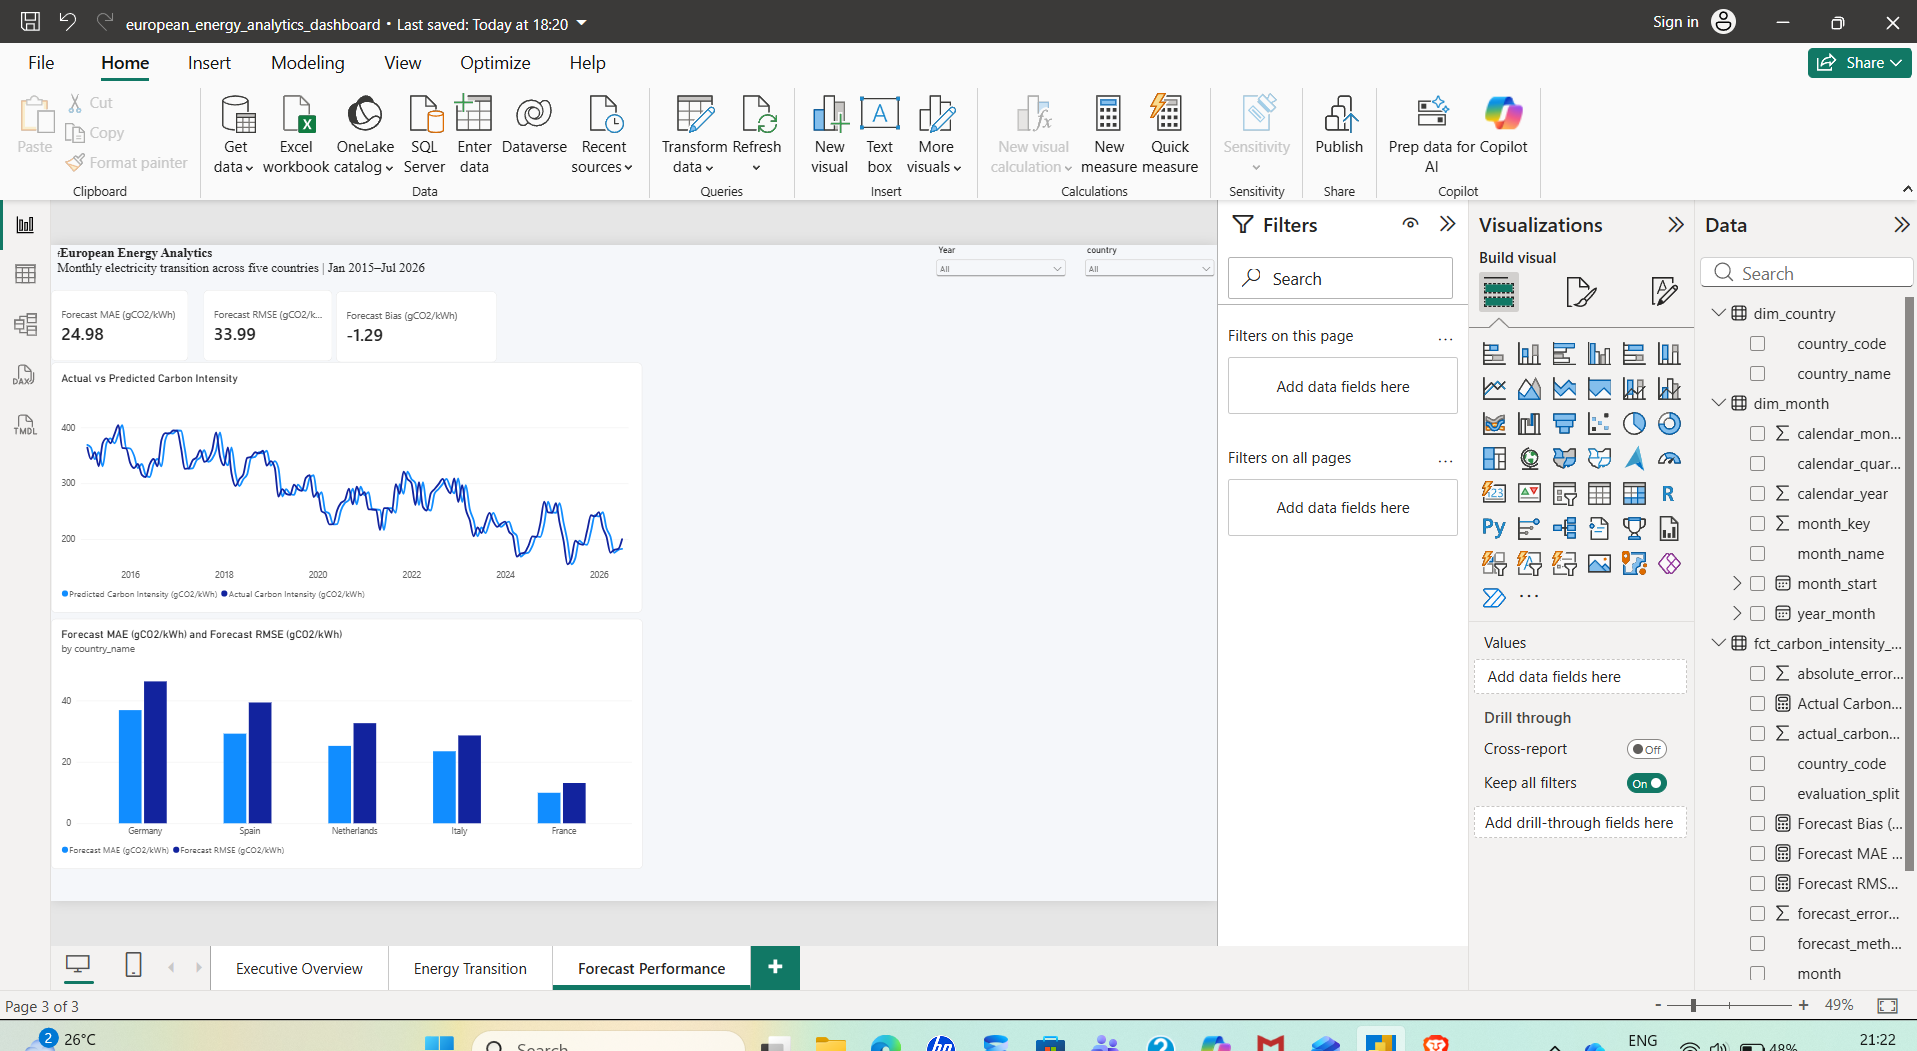

The page's visual inventory and layout, read from the dashboard file:
{"tool":"powerbi","page":{"name":"Forecast Performance","canvas":[1920,1080],"ordinal":2},"visuals":[{"type":"textbox","box":[10.3,0,1173.2,92.6],"z":0},{"type":"slicer","fields":{"Values":["dim_month.calendar_year"]},"box":[1453.2,0,222.3,74.1],"z":1000},{"type":"slicer","fields":{"Values":["dim_country.country_name"]},"box":[1697.7,0,222.3,74.1],"z":2000},{"type":"cardVisual","fields":{"Data":["fct_carbon_intensity_forecast.Forecast MAE (gCO2/kWh)"]},"box":[0,74.1,226.4,117.3],"z":3000},{"type":"cardVisual","fields":{"Data":["fct_carbon_intensity_forecast.Forecast RMSE (gCO2/kWh)"]},"box":[251.1,74.1,212,117.3],"z":4000},{"type":"cardVisual","fields":{"Data":["fct_carbon_intensity_forecast.Forecast Bias (gCO2/kWh)"]},"box":[469.3,76.2,265.5,117.3],"z":5000},{"type":"lineChart","title":"Actual vs Predicted Carbon Intensity","fields":{"Category":["dim_month.month_start"],"Y":["fct_carbon_intensity_forecast.Predicted Carbon Intensity (gCO2/kWh)","fct_carbon_intensity_forecast.Actual Carbon Intensity (gCO2/kWh)"]},"box":[0,193.5,973.6,411.7],"z":6000},{"type":"clusteredColumnChart","title":"Forecast Error by Country","fields":{"Category":["dim_country.country_name"],"Y":["fct_carbon_intensity_forecast.Forecast MAE (gCO2/kWh)","fct_carbon_intensity_forecast.Forecast RMSE (gCO2/kWh)"]},"box":[0,615,974,412],"z":7000}]}

Visuals, with their boxes on the page's 1920x1080 design canvas (x1, y1, x2, y2). These are canvas units, not pixel positions in the 1917x1051 screenshot, which may show the page scaled, cropped or inside an application window:
textbox: {"left": 10, "top": 0, "right": 1184, "bottom": 93}
slicer - dim_month.calendar_year: {"left": 1453, "top": 0, "right": 1676, "bottom": 74}
slicer - dim_country.country_name: {"left": 1698, "top": 0, "right": 1920, "bottom": 74}
cardVisual - fct_carbon_intensity_forecast.Forecast MAE (gCO2/kWh): {"left": 0, "top": 74, "right": 226, "bottom": 191}
cardVisual - fct_carbon_intensity_forecast.Forecast RMSE (gCO2/kWh): {"left": 251, "top": 74, "right": 463, "bottom": 191}
cardVisual - fct_carbon_intensity_forecast.Forecast Bias (gCO2/kWh): {"left": 469, "top": 76, "right": 735, "bottom": 194}
"Actual vs Predicted Carbon Intensity" lineChart: {"left": 0, "top": 194, "right": 974, "bottom": 605}
"Forecast Error by Country" clusteredColumnChart: {"left": 0, "top": 615, "right": 974, "bottom": 1027}
